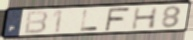1: (52, 9, 65, 34)
8: (161, 5, 183, 29)
B: (23, 10, 50, 35)
F: (103, 7, 132, 32)
H: (131, 6, 160, 31)
L: (79, 9, 100, 32)
